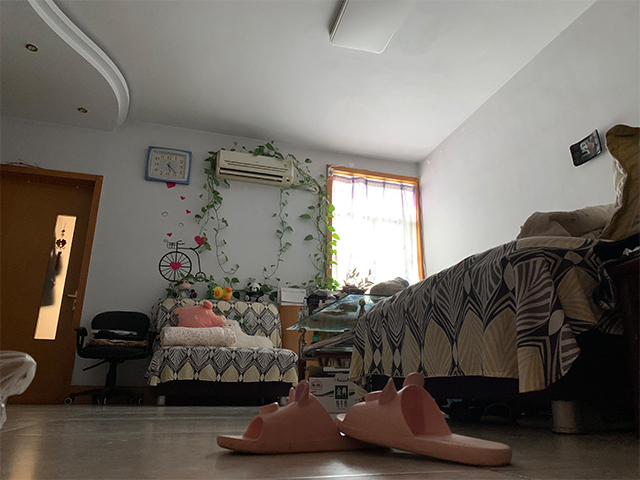slippers: (342, 378, 514, 467), (217, 380, 391, 459)
sofa: (342, 215, 640, 433), (146, 297, 301, 405)
stool: (63, 310, 157, 407)
